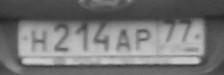license-plateSW: (18, 19, 207, 58)
